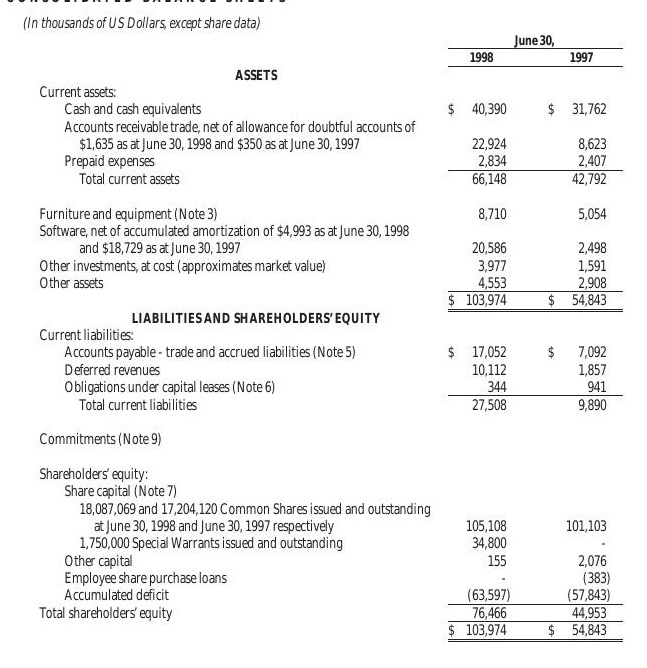table: (0, 0, 647, 668)
